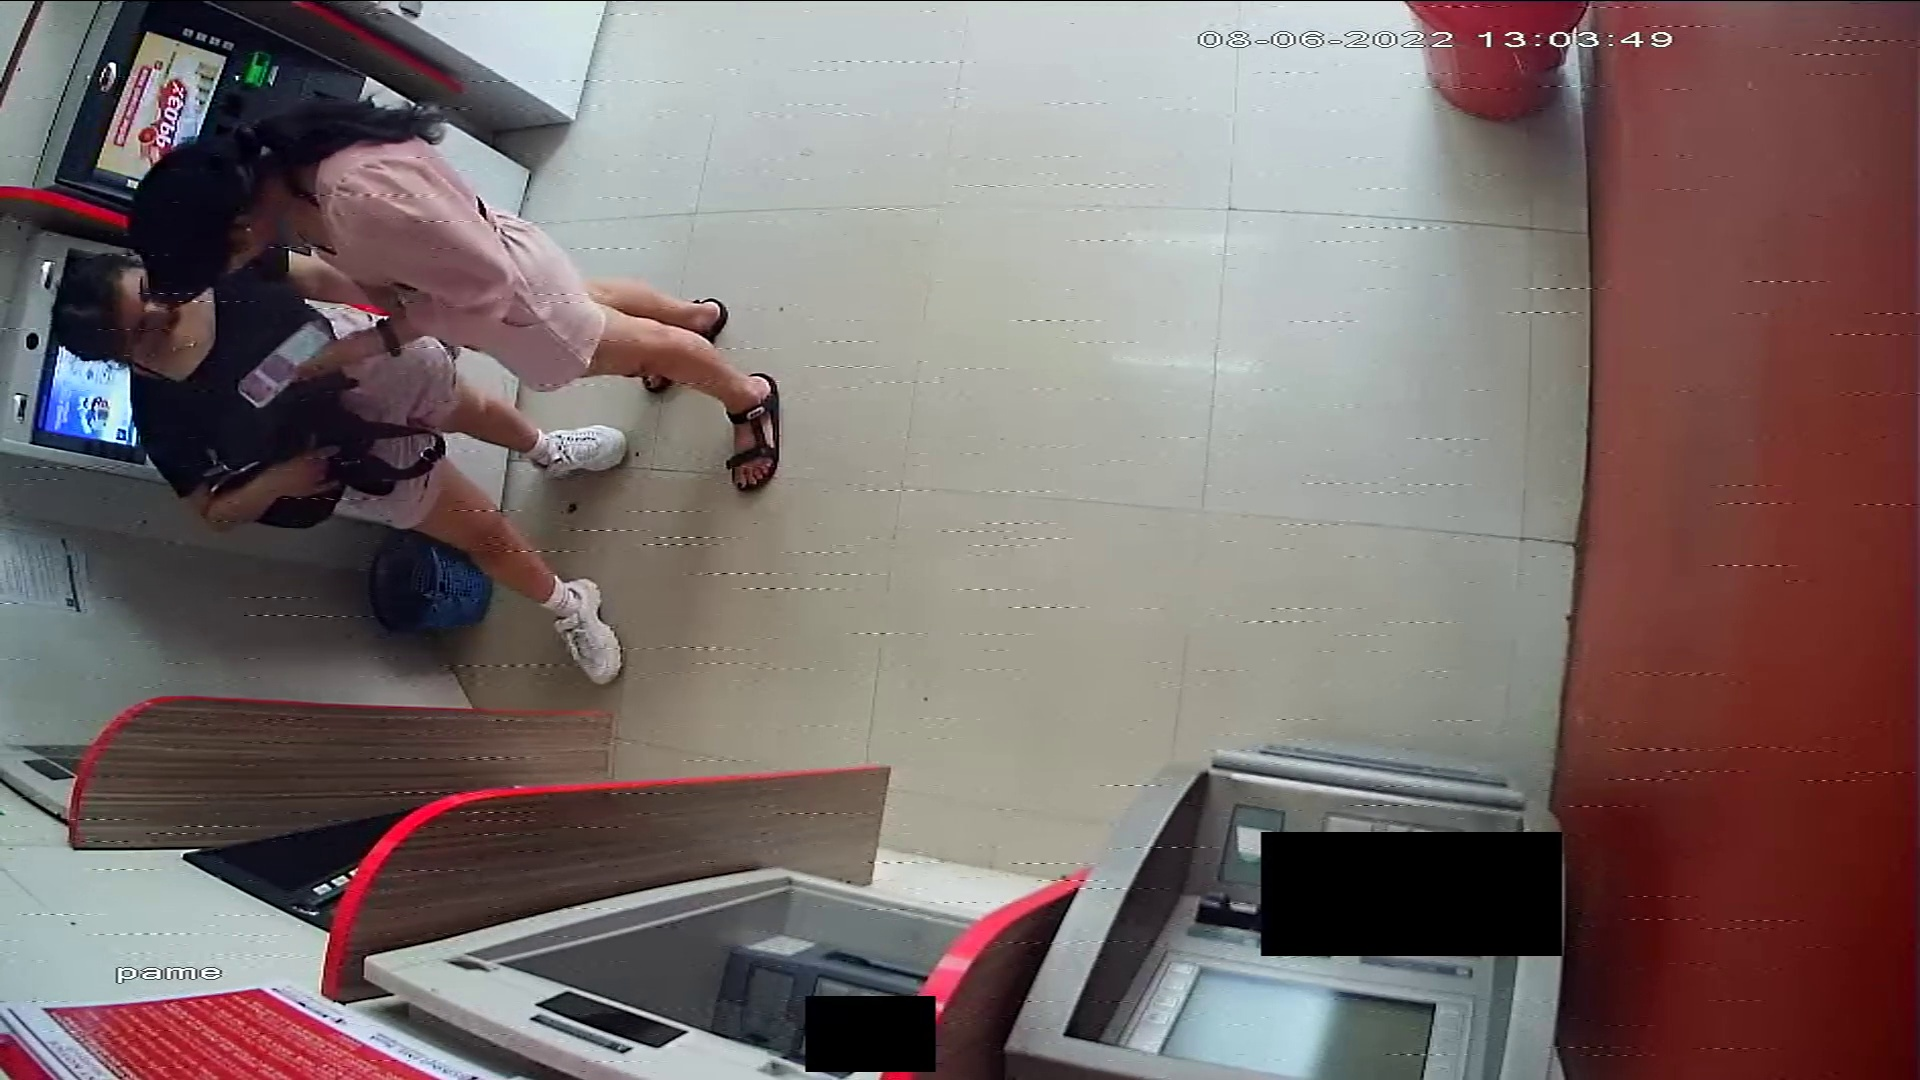person: (124, 109, 796, 495), (54, 250, 633, 689)
phone: (222, 316, 329, 410)
